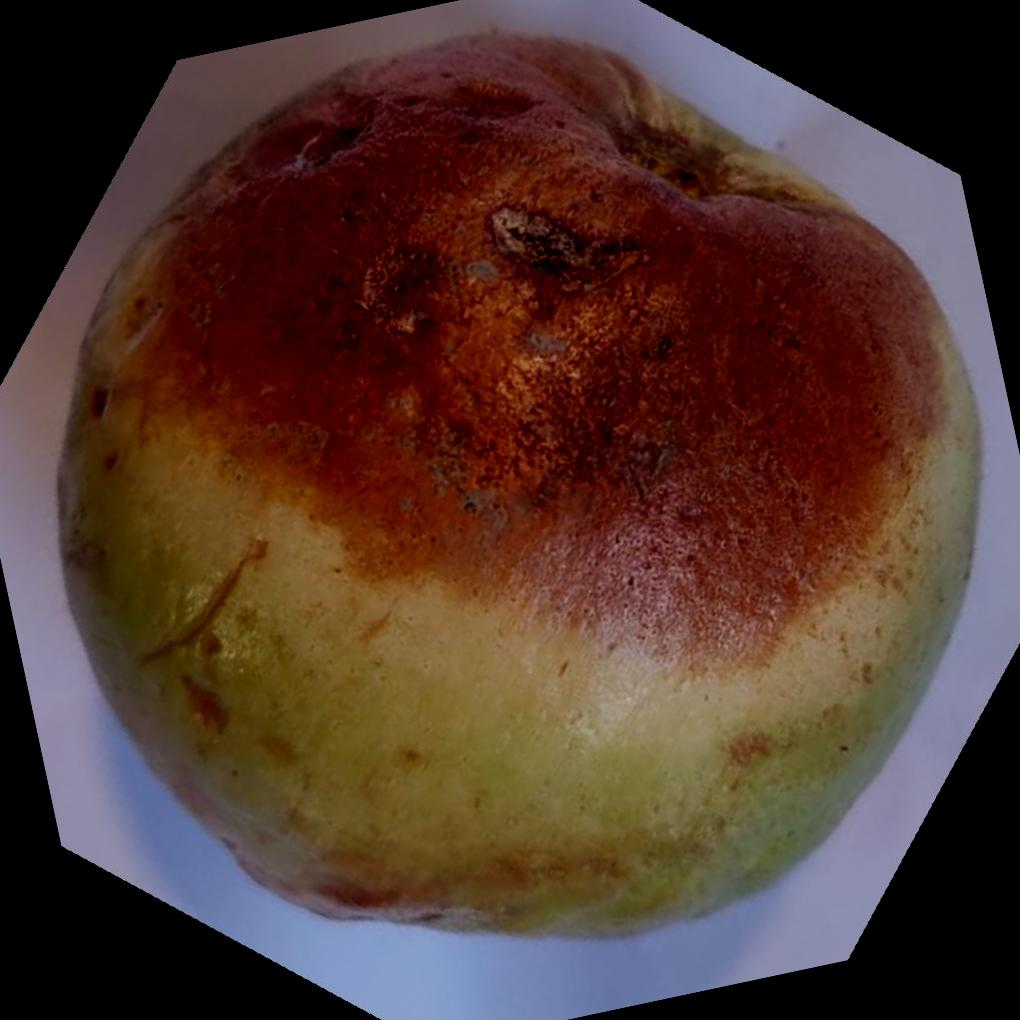FreshOrange: (52, 28, 982, 944)
